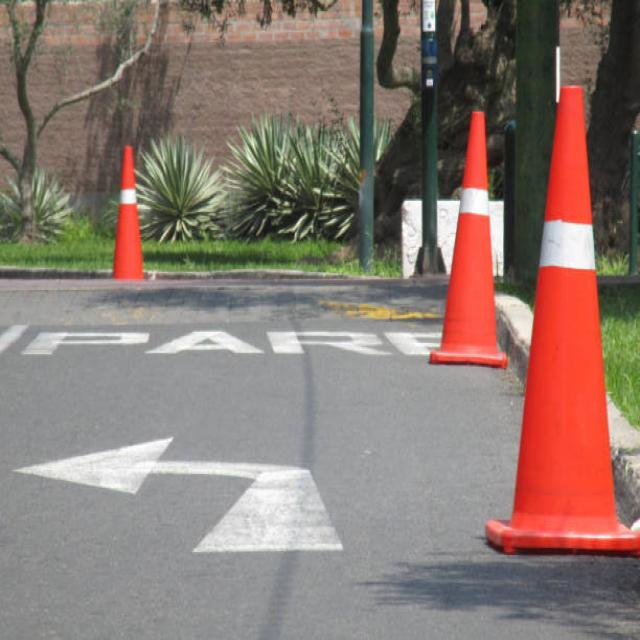Traffic Cone: (478, 49, 640, 573), (408, 77, 523, 385), (88, 120, 170, 310)
